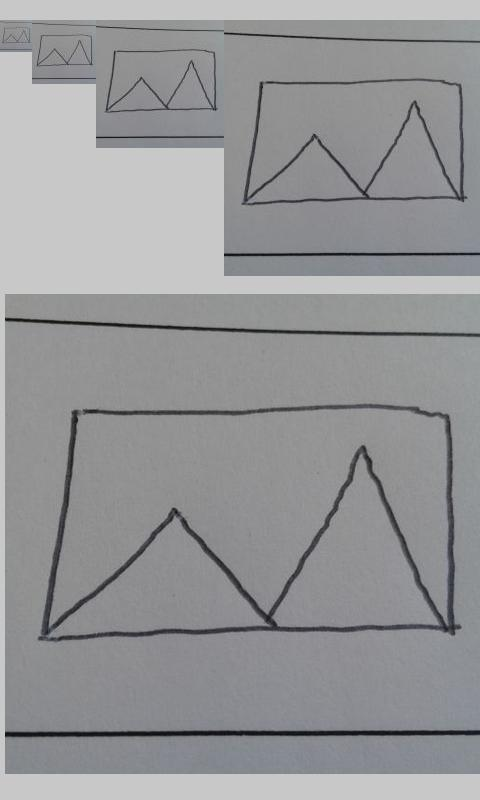image_view: (35, 396, 459, 648), (242, 77, 467, 207), (105, 48, 217, 114), (36, 33, 93, 67), (1, 26, 31, 44)
